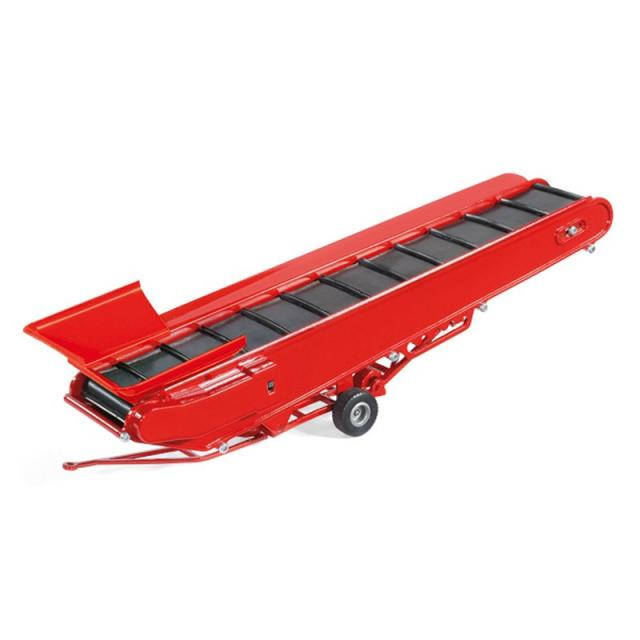Convoyeur: (19, 137, 625, 515)
